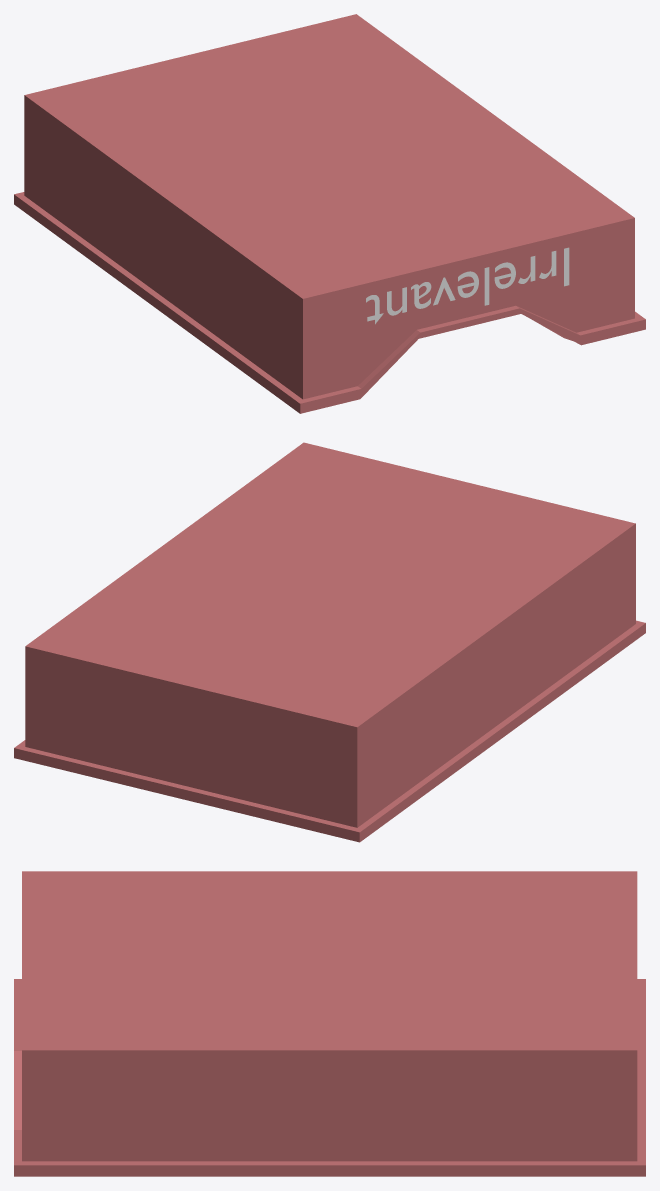
Rendered from Folder_irrelevant.fbx.
3 views of the same model, one above another, from view 1: azimuth 30°, elevation 25°; view 2: azimuth 150°, elevation 25°; view 3: azimuth 270°, elevation 25° (orthographic). The views are drawn at different scales.
Parts seen in each view (by area): view 1: Cube, Text; view 2: Cube; view 3: Cube.
Boxes of the visible parts, x1,y1,x2,y2 form: Cube: (14, 14, 645, 413); Text: (366, 247, 569, 324); Cube: (14, 442, 645, 842); Cube: (14, 871, 645, 1176).
Size of the model in its own units: 654 by 200 by 937.
